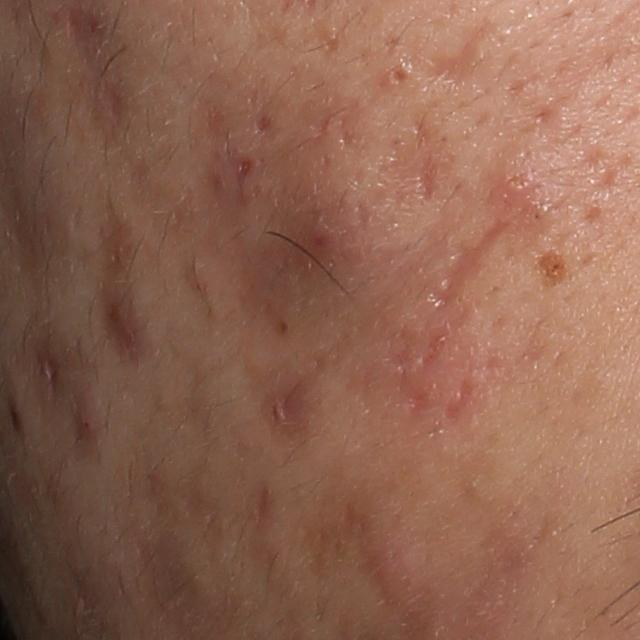atrophic_scar: (194, 62, 361, 370), (349, 104, 456, 236), (85, 206, 155, 374), (421, 210, 531, 310), (257, 367, 327, 442), (385, 315, 427, 424), (436, 373, 487, 431), (27, 331, 64, 402)
comedo: (386, 64, 414, 89)
papule: (359, 526, 423, 605), (487, 156, 538, 200), (75, 396, 100, 442)
